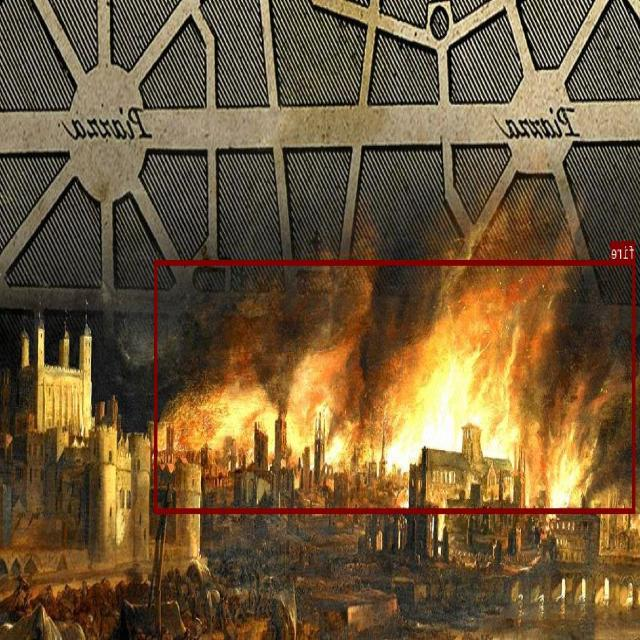fire: (155, 260, 635, 512)
